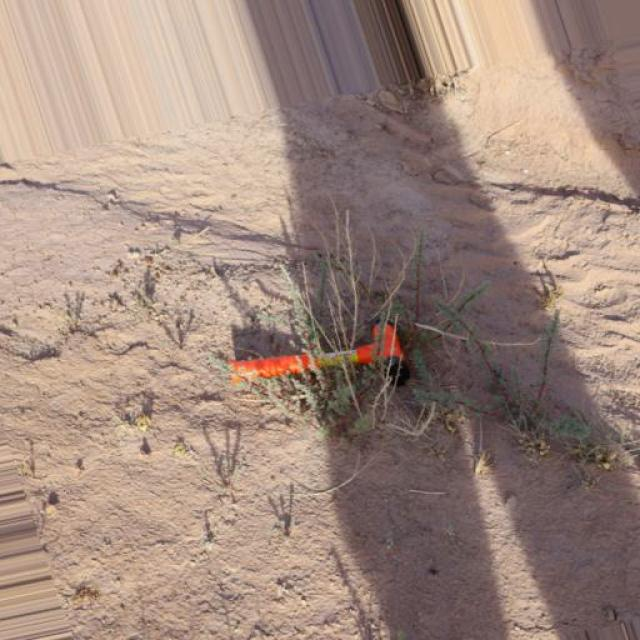mallet: (224, 319, 410, 389)
